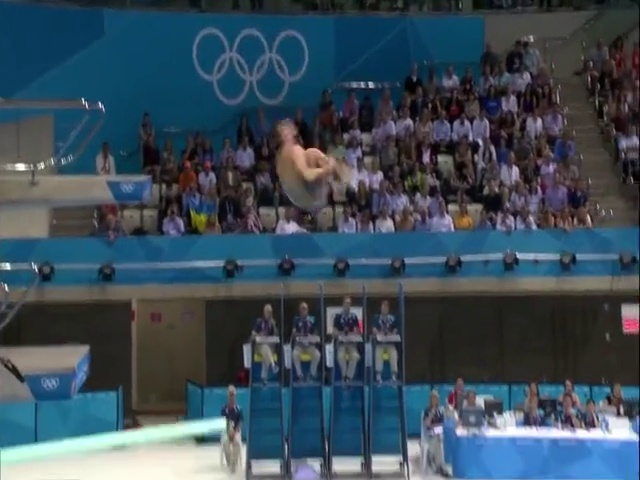diver: (269, 116, 354, 210)
